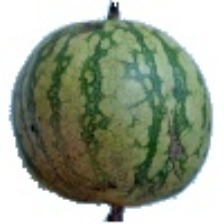watermelon: (41, 37, 204, 222)
